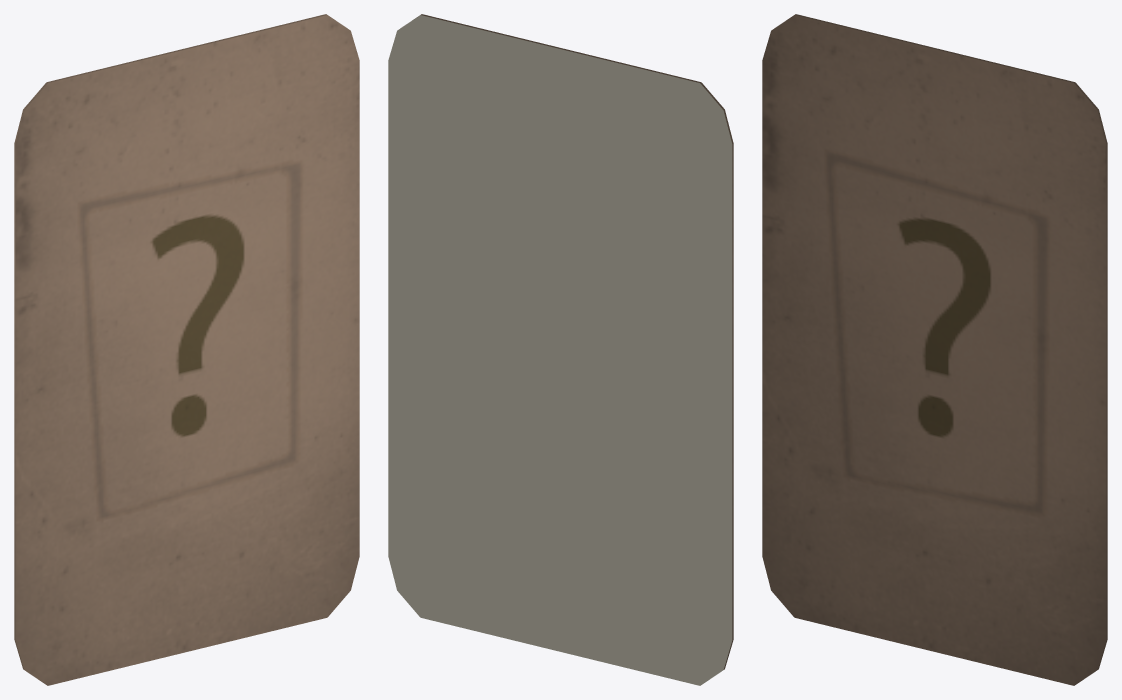
The model's file is card.fbx.
The picture shows the model from 3 angles, left to right: view 1: azimuth 30°, elevation 25°; view 2: azimuth 150°, elevation 25°; view 3: azimuth 330°, elevation 25°; orthographic projection.
Visible parts, largest first — view 1: cardmesh; view 2: cardmesh; view 3: cardmesh.
Part boxes in pixels (x1,y1,x2,y2): cardmesh: (14, 14, 359, 685); cardmesh: (388, 14, 733, 685); cardmesh: (762, 14, 1107, 685).
Size of the model in its own units: 0.5975 by 1 by 0.00397.
2 materials, 2 textured.
